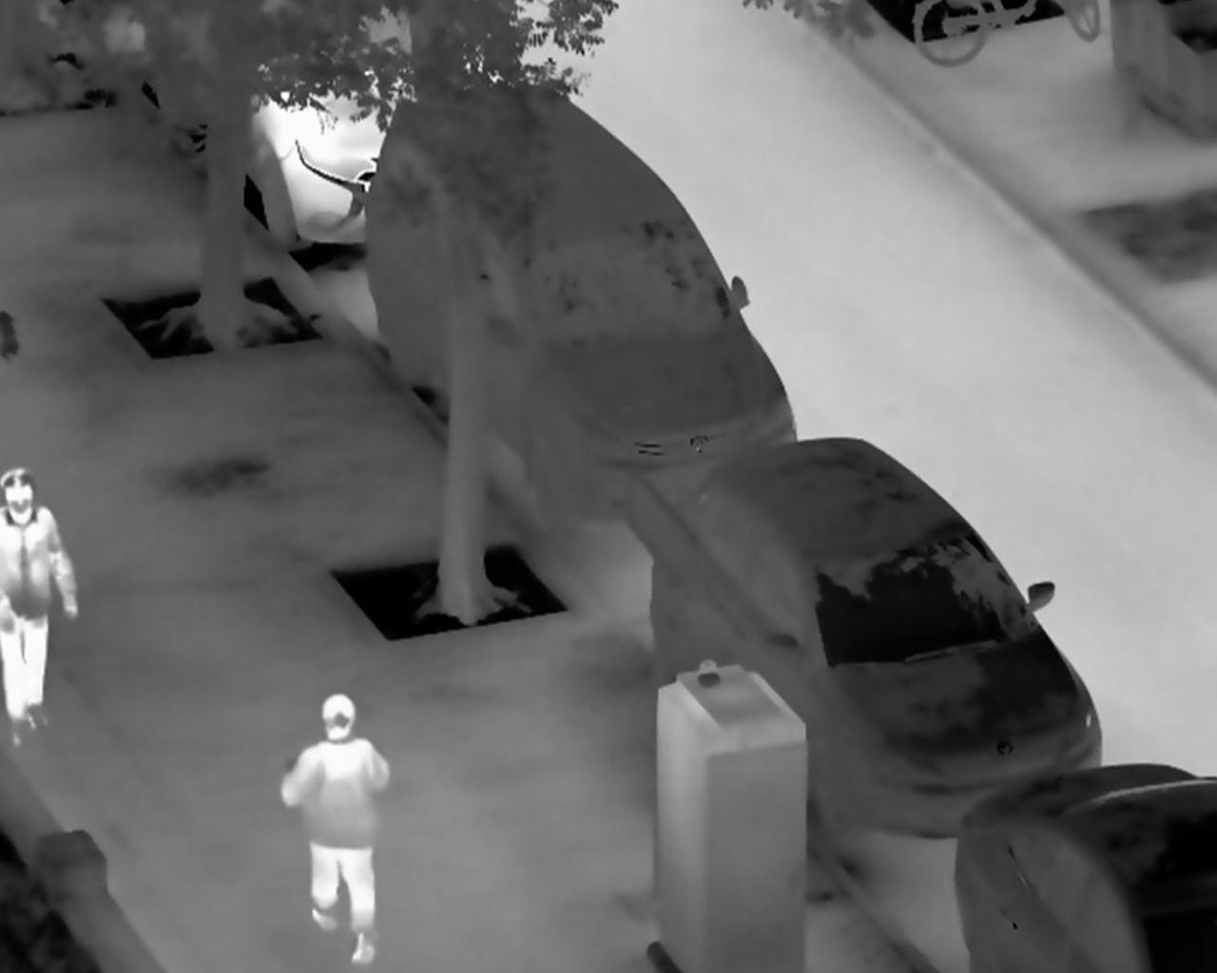person: (280, 692, 397, 967)
